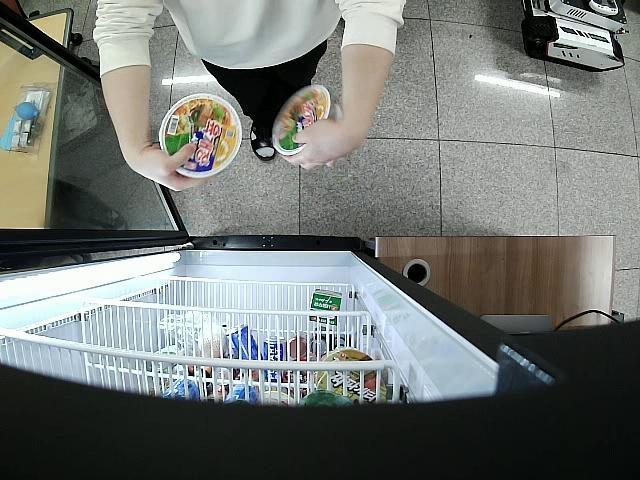09_yukGaeJang: (159, 94, 243, 178), (270, 84, 338, 156)
